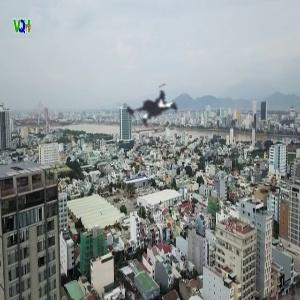drone: (104, 59, 204, 159)
